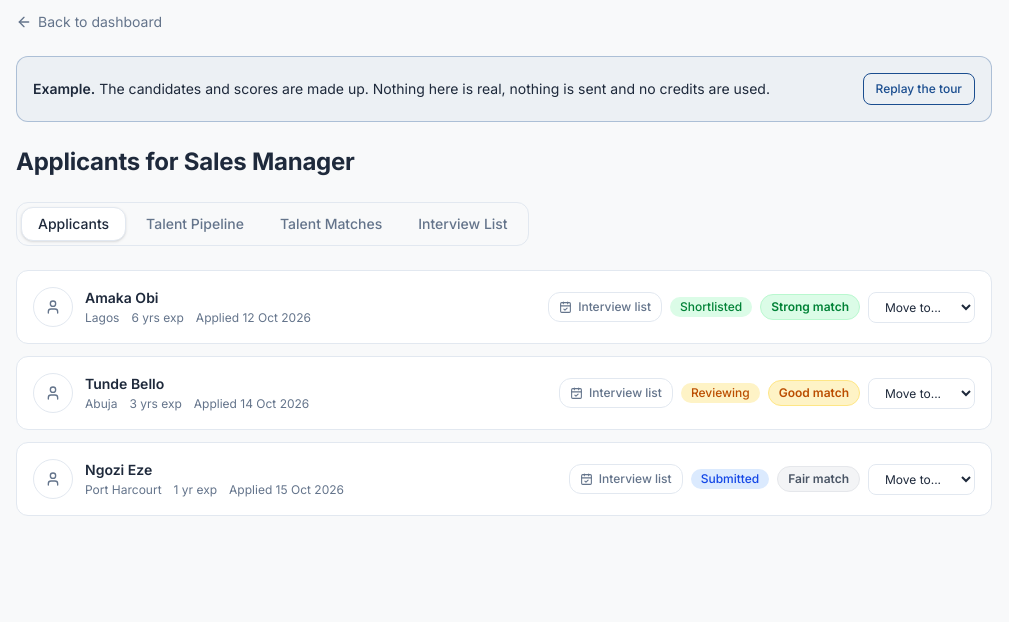
ExampleJobTourPage › the Talent Pipeline tab and the Talent Pool › opens the Talent Pool from Upload CVs, without uploading anything
Click the tab "Talent Pipeline" at coordinates (195, 224), box [130,207,260,241]
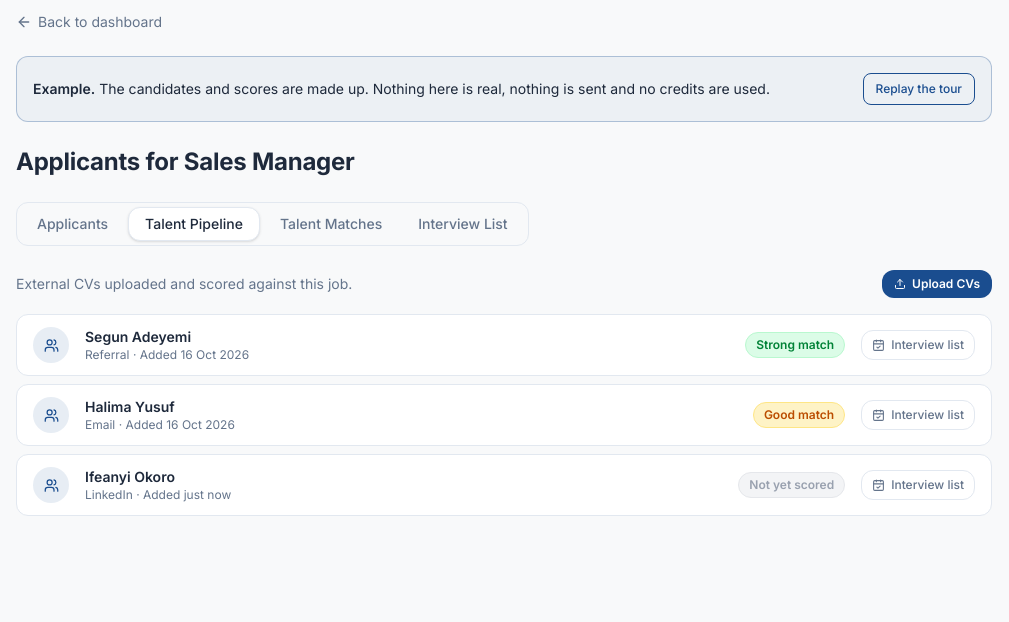
Click the button "Upload CVs" at coordinates (937, 284), box [882,270,992,298]
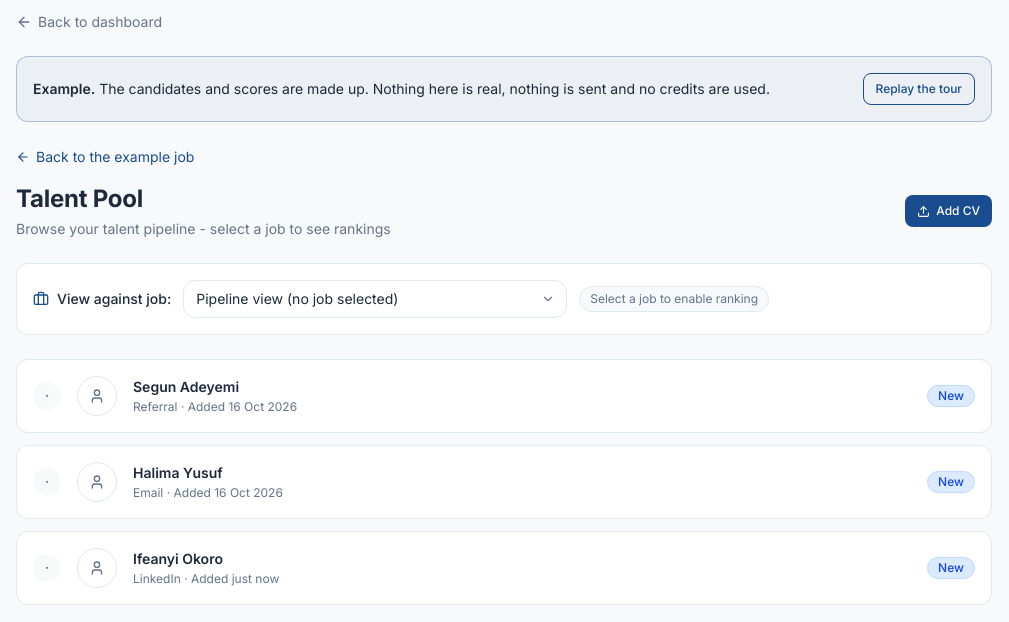
expect the heading "Talent Pool" is shown: met, box [16,184,143,213]
